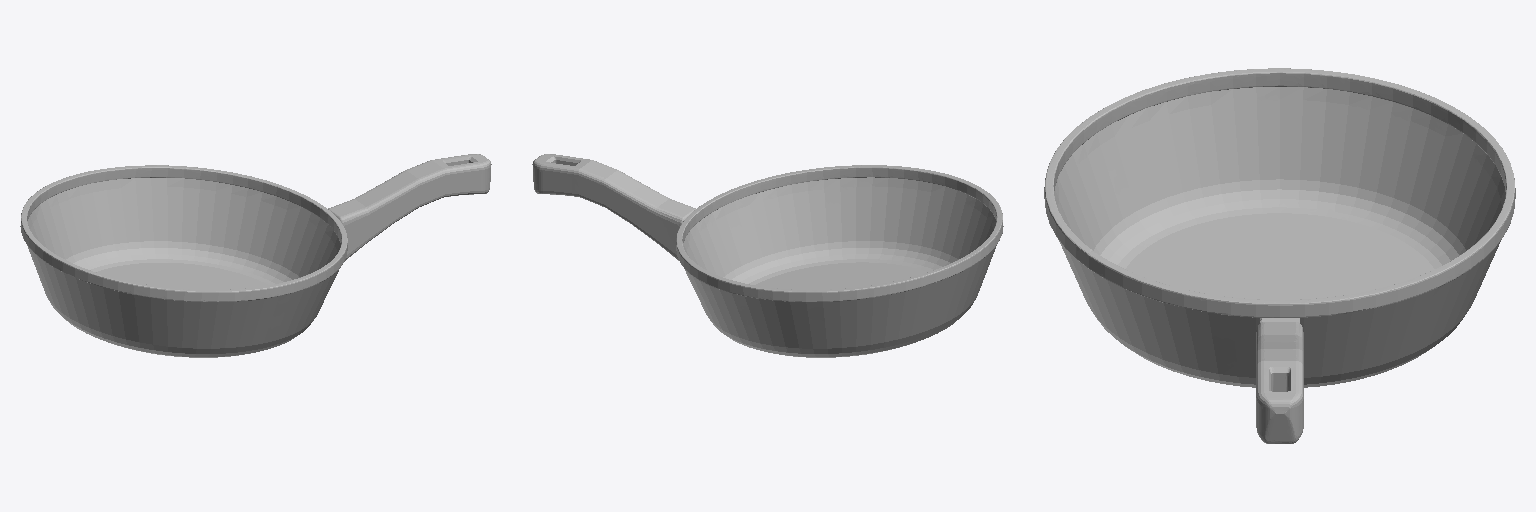
URDF robot description (root):
<robot name="root">
  <link name="link_001">
    <visual>
      <origin xyz="0 0 0" rpy="0 0 0"/>
      <geometry>
        <mesh filename="fryingpan.obj" scale="1.0000E+00 1.0000E+00 1.5000E+00"/>
      </geometry>
      <material name="">
        <color rgba="7.50E-01 7.50E-01 7.50E-01 1"/>
      </material>
    </visual>
    <collision>
      <origin xyz="0 0 0" rpy="0 0 0"/>
      <geometry>
        <mesh filename="fryingpan.obj" scale="1.0000E+00 1.0000E+00 1.5000E+00"/>
      </geometry>
    </collision>
    <inertial>
      <mass value="0.16"/> <!-- 质量：0.1kg -->
    </inertial>
  </link>
</robot>

--- What the picture shows (computed from the rendered views, not written in the file) ---
The picture shows the robot from 3 angles, left to right: view 1: azimuth 30°, elevation 25°; view 2: azimuth 150°, elevation 25°; view 3: azimuth 270°, elevation 25°; orthographic projection.
Model root with 1 links and 0 joints (none), rooted at link_001, posed every joint at zero.
Links seen in each view (by area): view 1: link_001; view 2: link_001; view 3: link_001.
Link boxes in pixels (x1,y1,x2,y2): link_001: (20, 154, 491, 357); link_001: (532, 154, 1003, 357); link_001: (1044, 68, 1515, 443).
Size in the robot's own frame: 0.236 by 0.15 by 0.0532 metres.
1 mesh visuals loaded from 1 distinct referenced files (1 OBJ).
